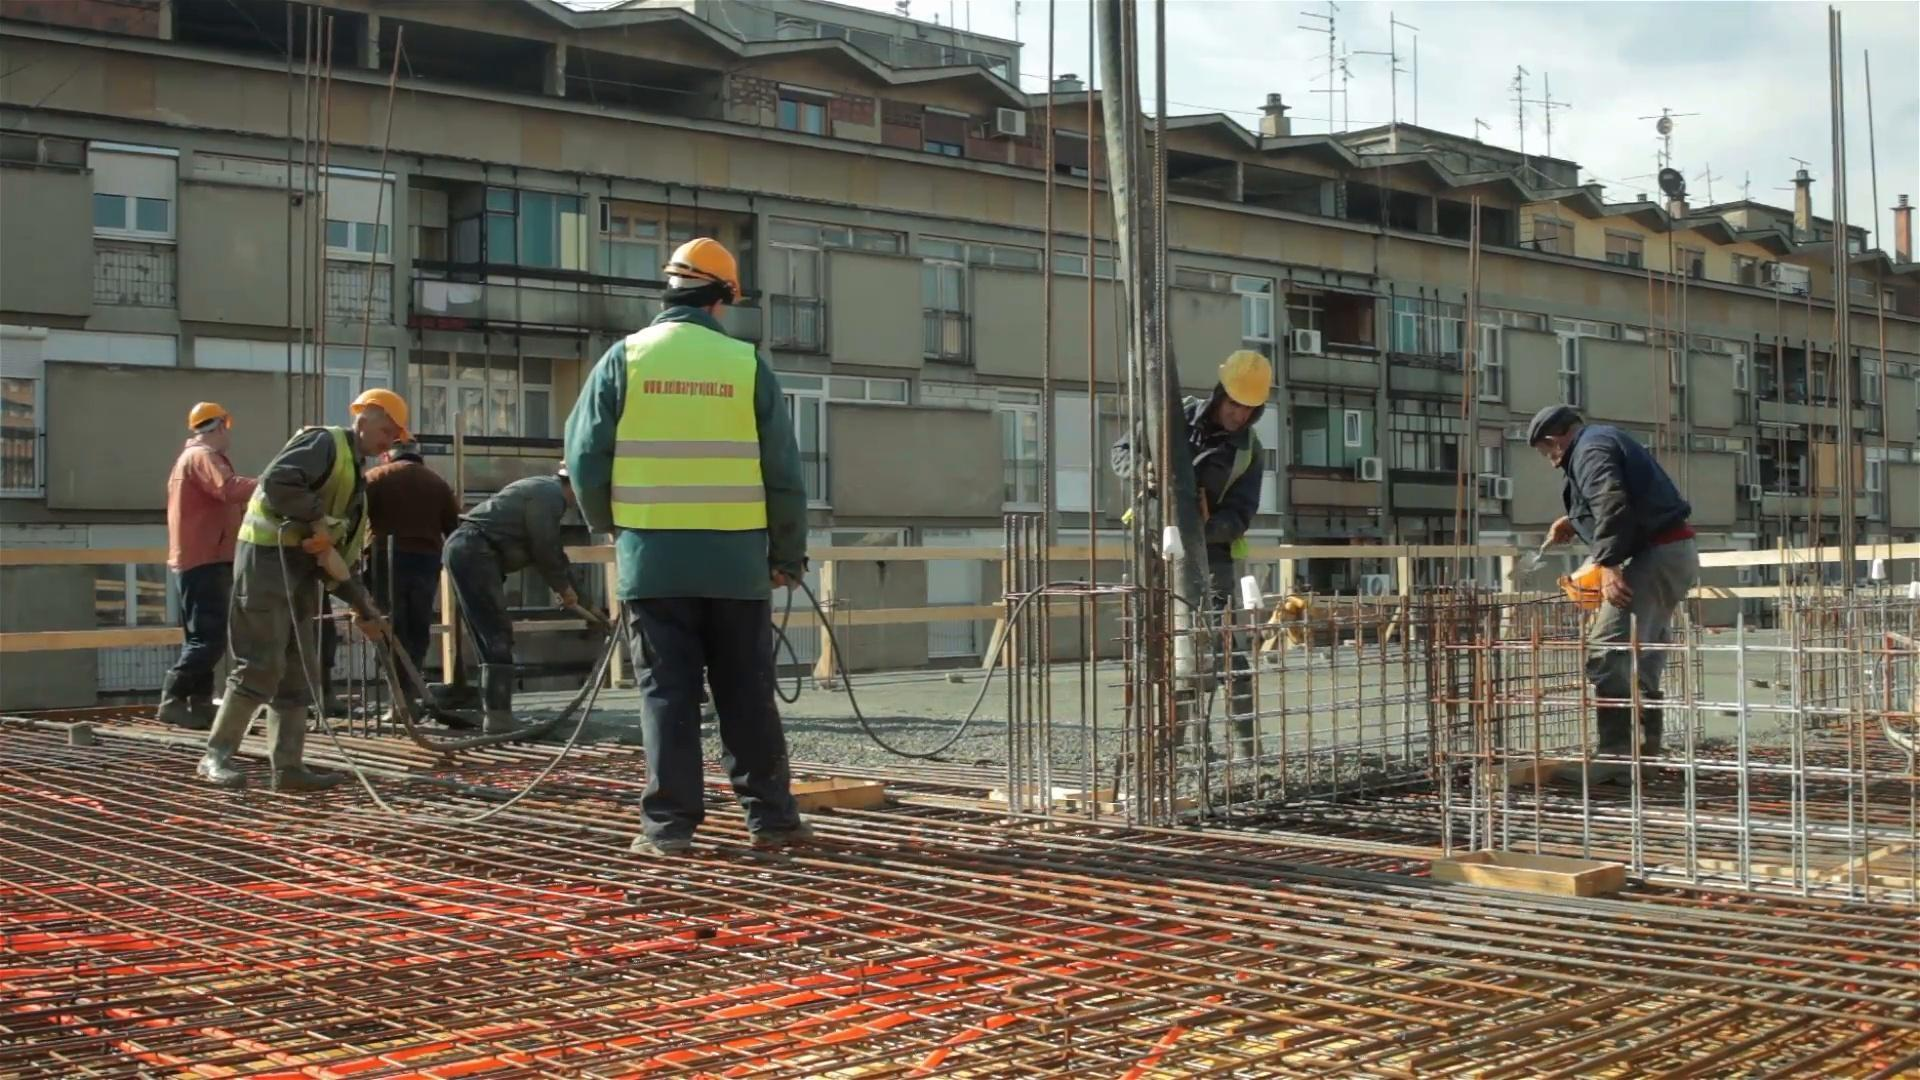vest: (618, 332, 765, 529)
